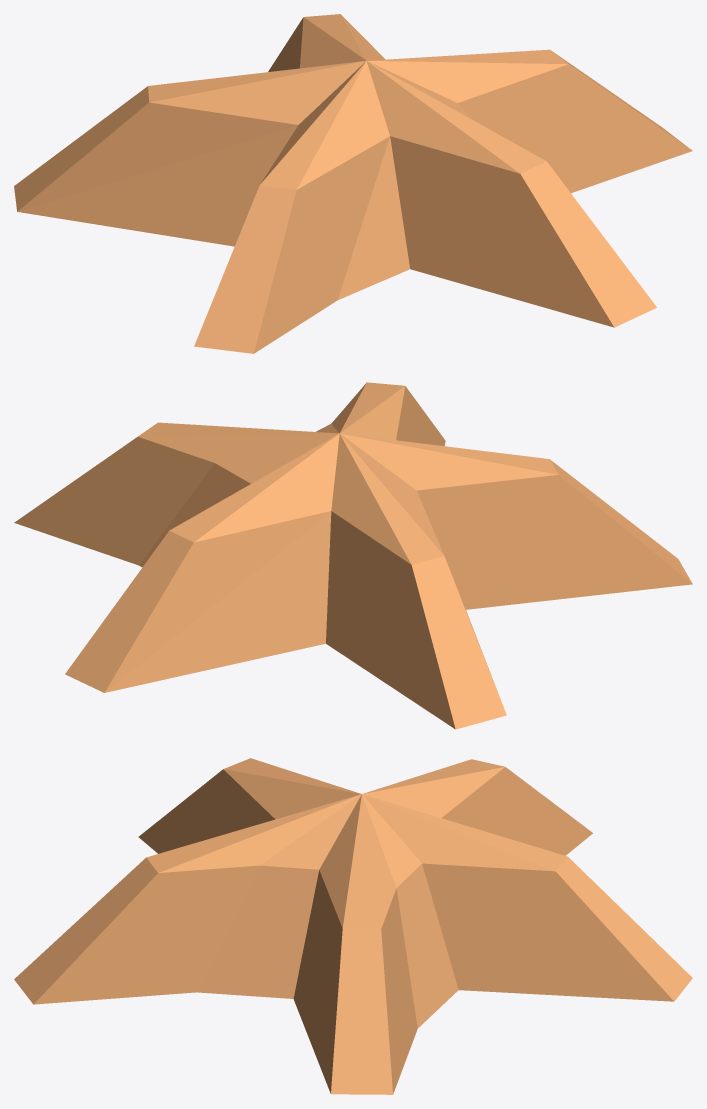
File: 45-Arte3D_estrella_mar.glb
3 views of the same model, one above another, from view 1: azimuth 30°, elevation 25°; view 2: azimuth 150°, elevation 25°; view 3: azimuth 270°, elevation 25° (orthographic).
Visible parts, largest first — view 1: SM_Estrella_M_EstrellaMar; view 2: SM_Estrella_M_EstrellaMar; view 3: SM_Estrella_M_EstrellaMar.
Boxes of the visible parts, x1,y1,x2,y2 form: SM_Estrella_M_EstrellaMar: (14, 14, 692, 353); SM_Estrella_M_EstrellaMar: (14, 382, 692, 729); SM_Estrella_M_EstrellaMar: (14, 758, 692, 1094).
Bounding box in the file's own units: 0.4683 × 0.12 × 0.4874.
